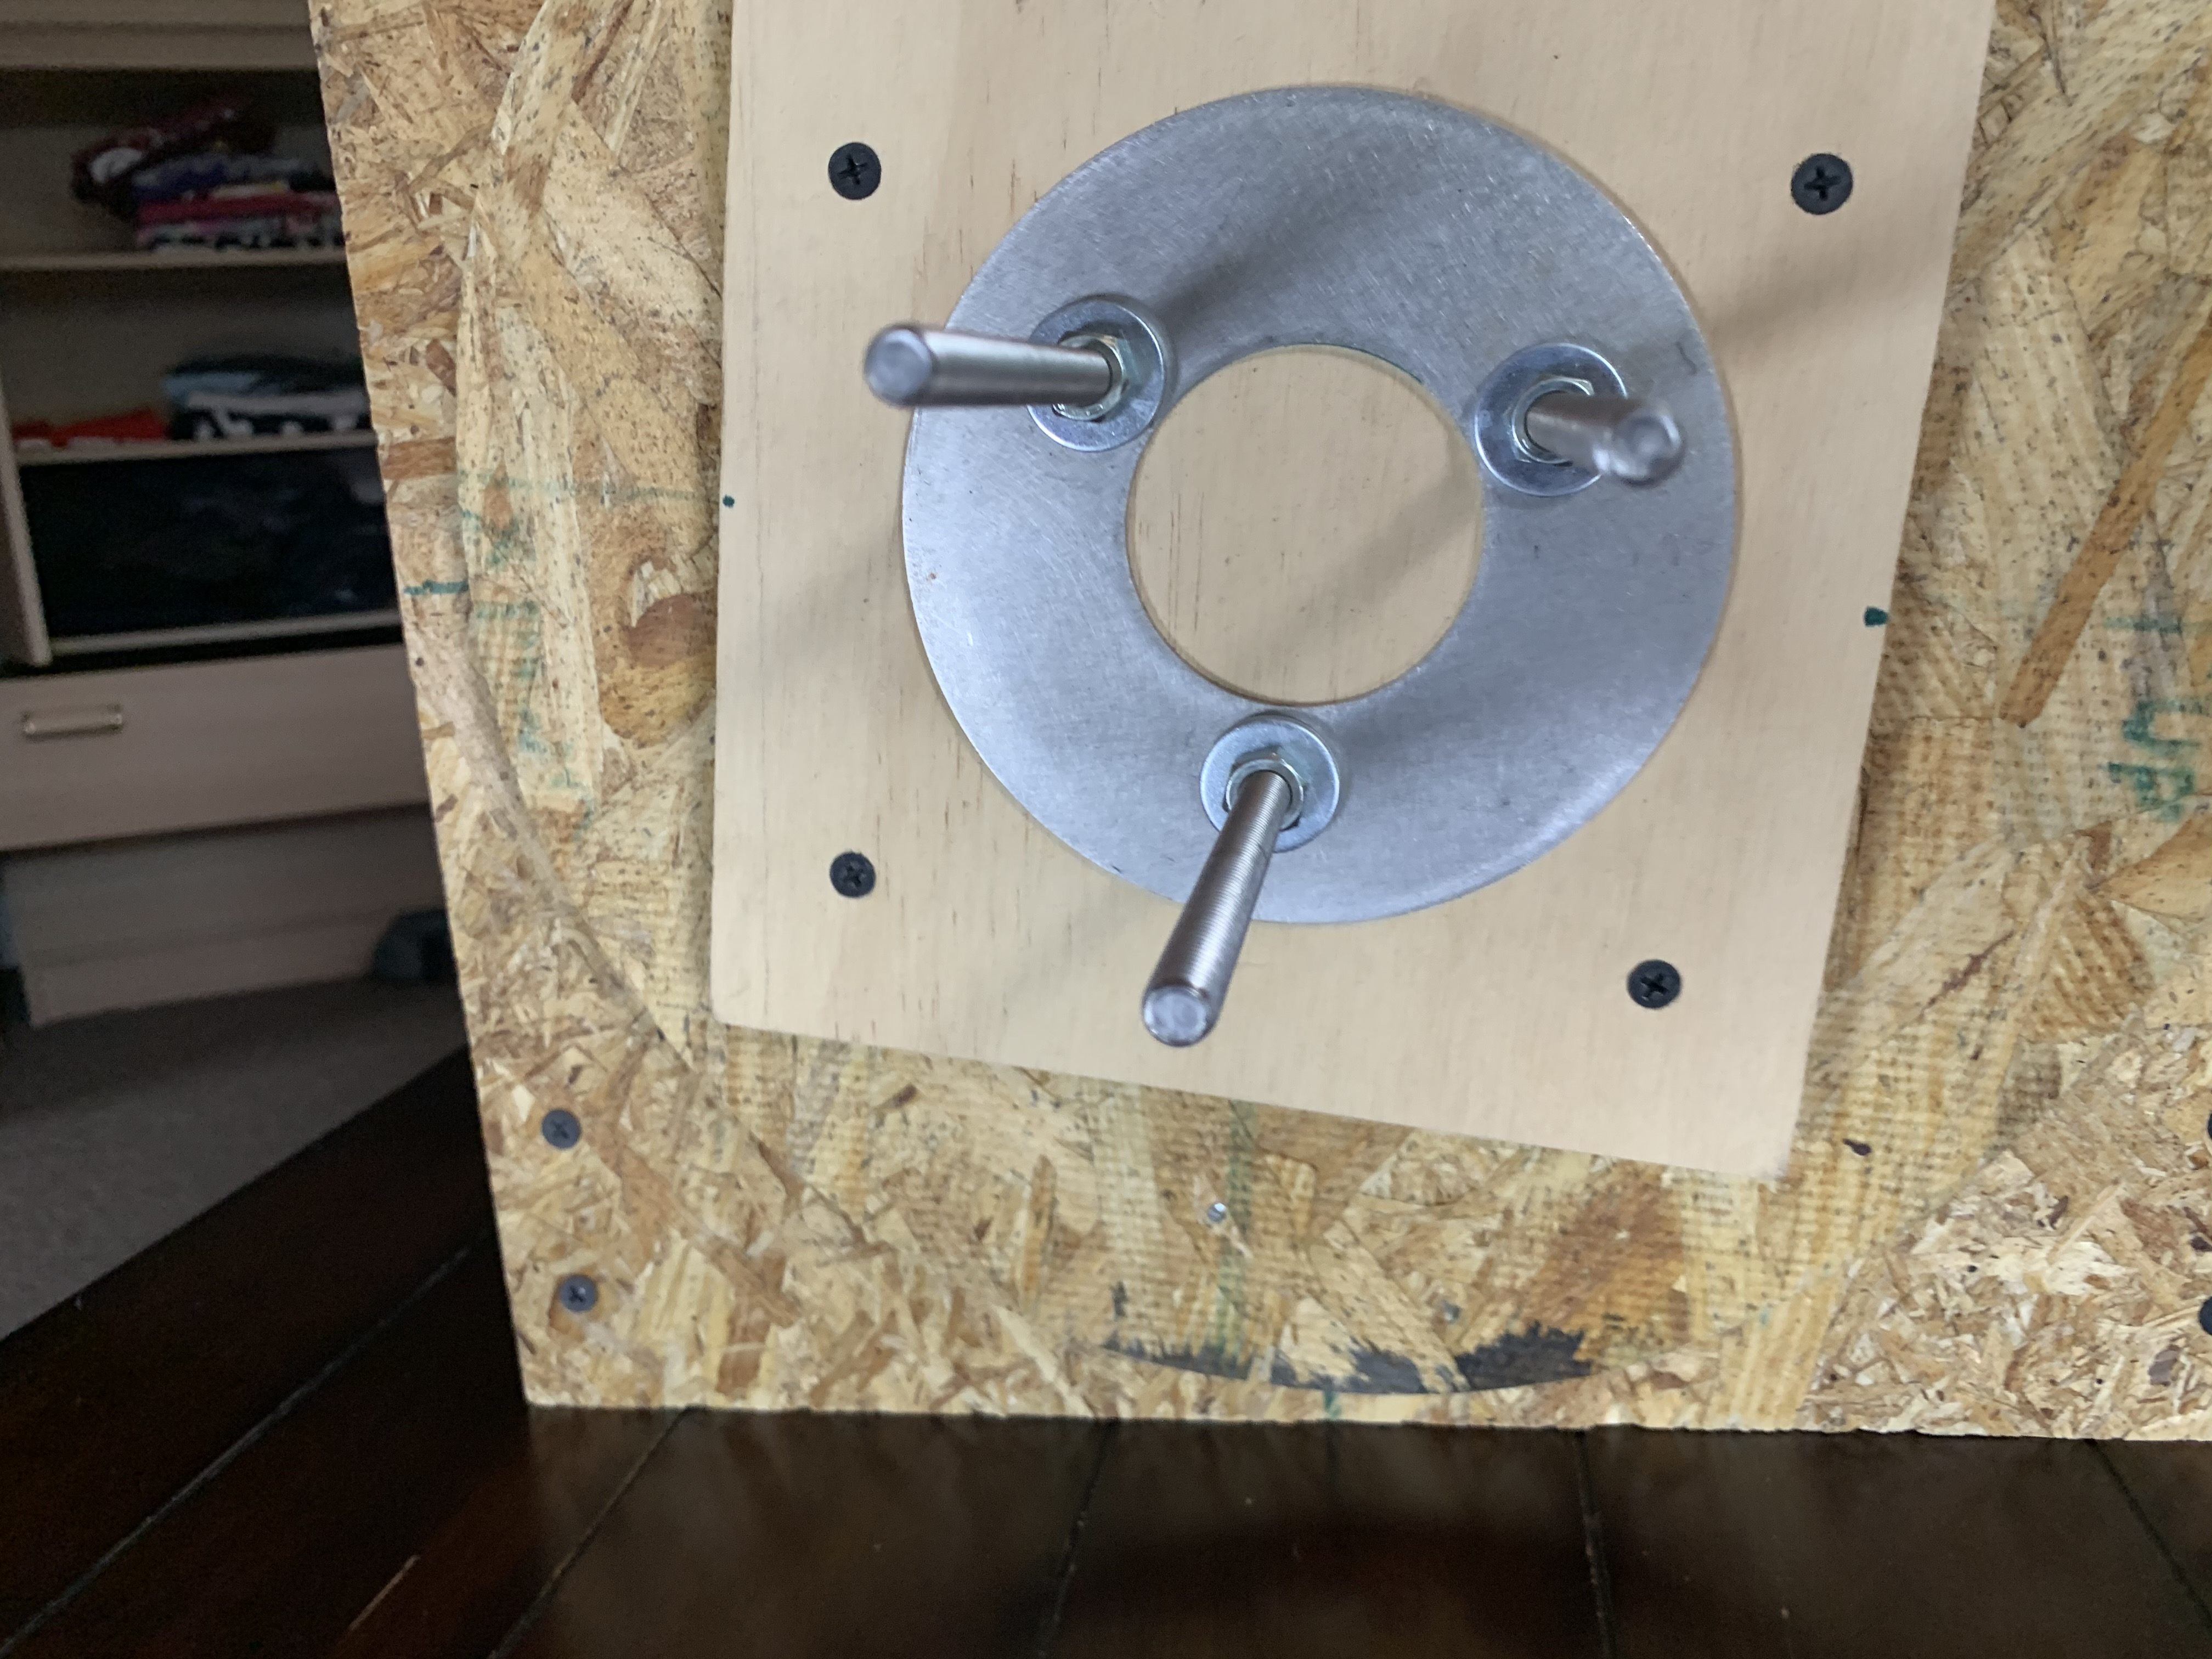bolt: (1470, 340, 1634, 504), (1017, 295, 1170, 455), (1200, 713, 1346, 854)
